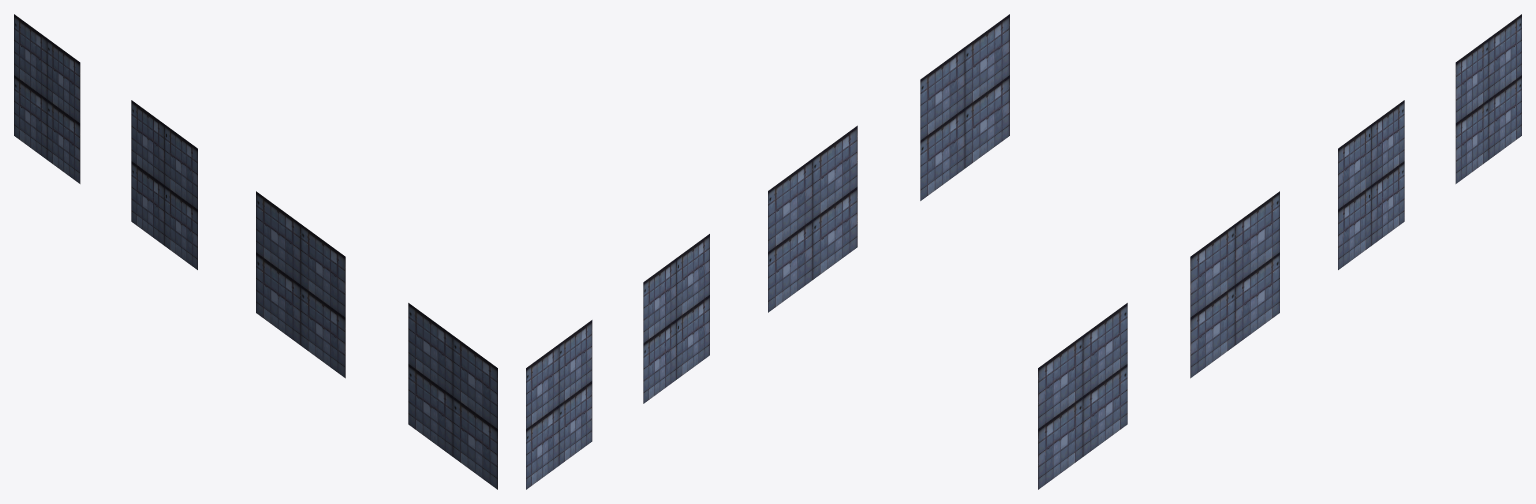
The model's file is windows_windowdarka_dm_0_lev1.glb.
3 renders of one model, left to right at view 1: azimuth 30°, elevation 25°; view 2: azimuth 150°, elevation 25°; view 3: azimuth 330°, elevation 25°, orthographic.
Parts seen in each view (by area): view 1: windows_windowdarka_dm_0_lev1; view 2: windows_windowdarka_dm_0_lev1; view 3: windows_windowdarka_dm_0_lev1.
Boxes of the visible parts, x1,y1,x2,y2 form: windows_windowdarka_dm_0_lev1: (14, 14, 497, 489); windows_windowdarka_dm_0_lev1: (526, 14, 1009, 489); windows_windowdarka_dm_0_lev1: (1038, 14, 1521, 489).
Bounding box in the file's own units: 0 × 1.56 × 11.22.
1 material, 1 textured.
